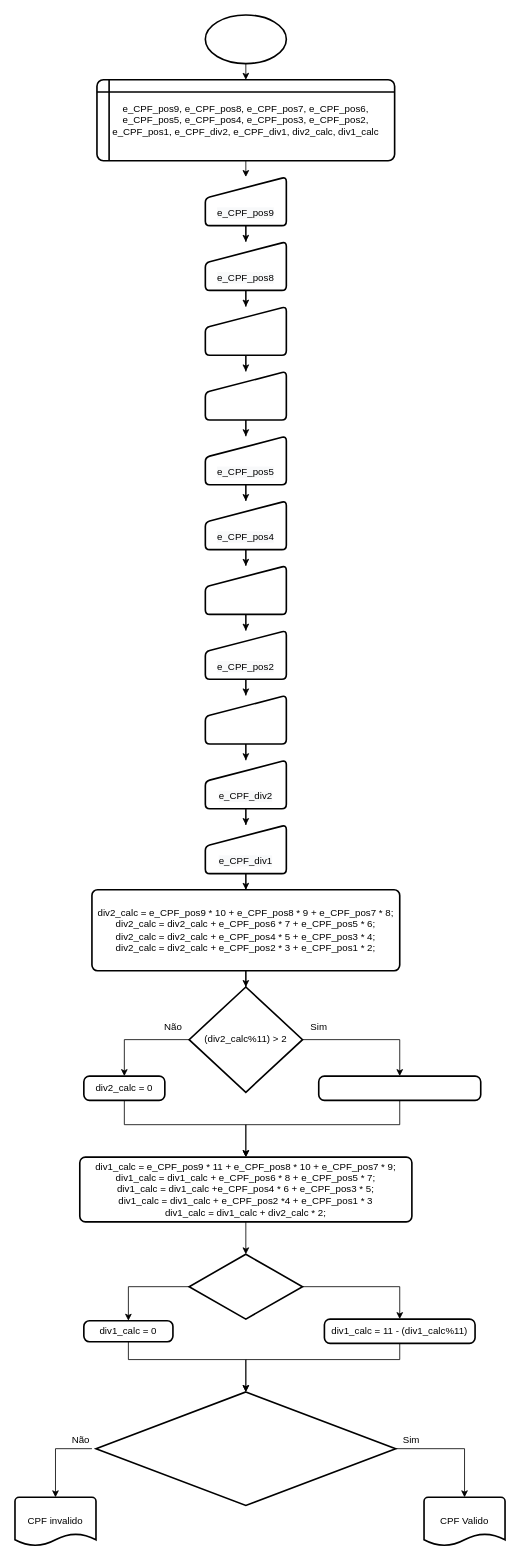
Image size: 519x1560. Some labels were removed from this diagram. Each missing label, with the centre of its shape:
"(div1_calc%11) > 2" belongs at pixel 245 1286.
"(div2_calc == e_CPF_div2) && (div1_calc == e_CPF_div1)" belongs at pixel 245 1448.
"div2_calc = 11 - (div2_calc%11)" belongs at pixel 399 1088.
"e_CPF_pos1" belongs at pixel 245 719.
"e_CPF_pos3" belongs at pixel 245 590.
"e_CPF_pos6" belongs at pixel 245 395.
"e_CPF_pos7" belongs at pixel 245 330.
"Início" belongs at pixel 245 39.
